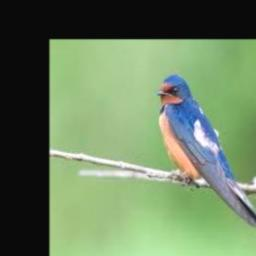Swallow: (156, 76, 256, 226)
